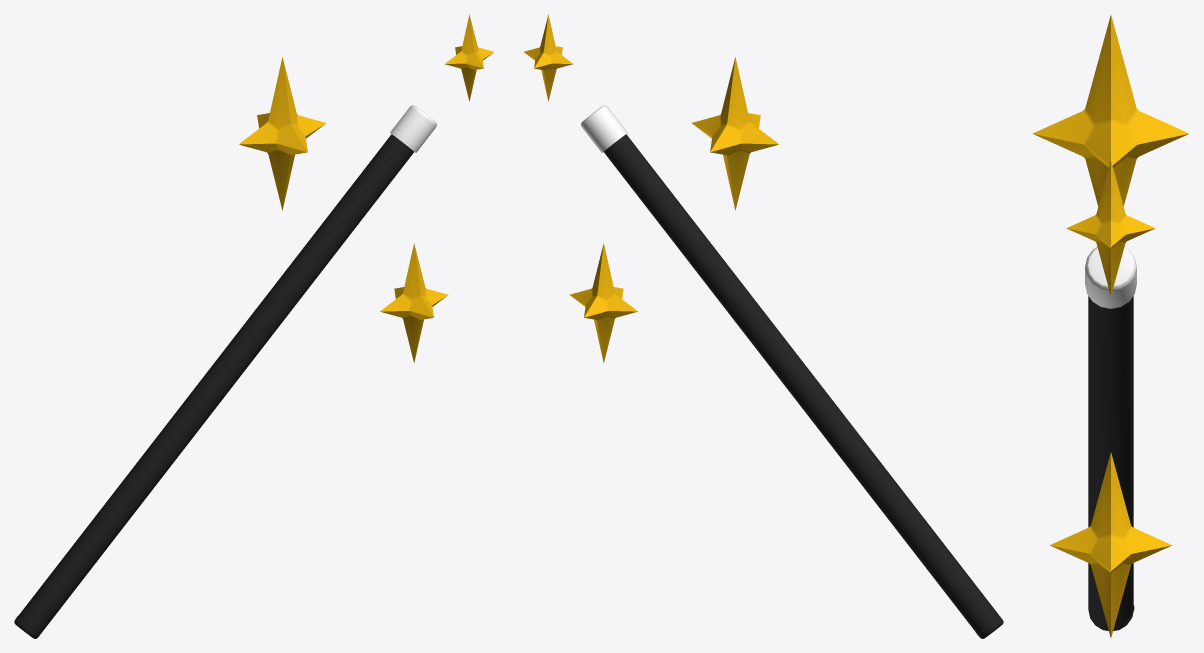
Rendered from magic_wand.glb.
3 renders of one model, left to right at view 1: azimuth 30°, elevation 25°; view 2: azimuth 150°, elevation 25°; view 3: azimuth 270°, elevation 25°, orthographic. The views are drawn at different scales.
Visible parts, largest first — view 1: Cylinder.482; view 2: Cylinder.482; view 3: Cylinder.482.
Part boxes in pixels (x1,y1,x2,y2): Cylinder.482: (14,14,493,638); Cylinder.482: (524,14,1003,638); Cylinder.482: (1032,15,1189,637).
Size of the model in its own units: 2.16 by 2.24 by 0.3981.
Materials: 1 (1 with a texture image).
